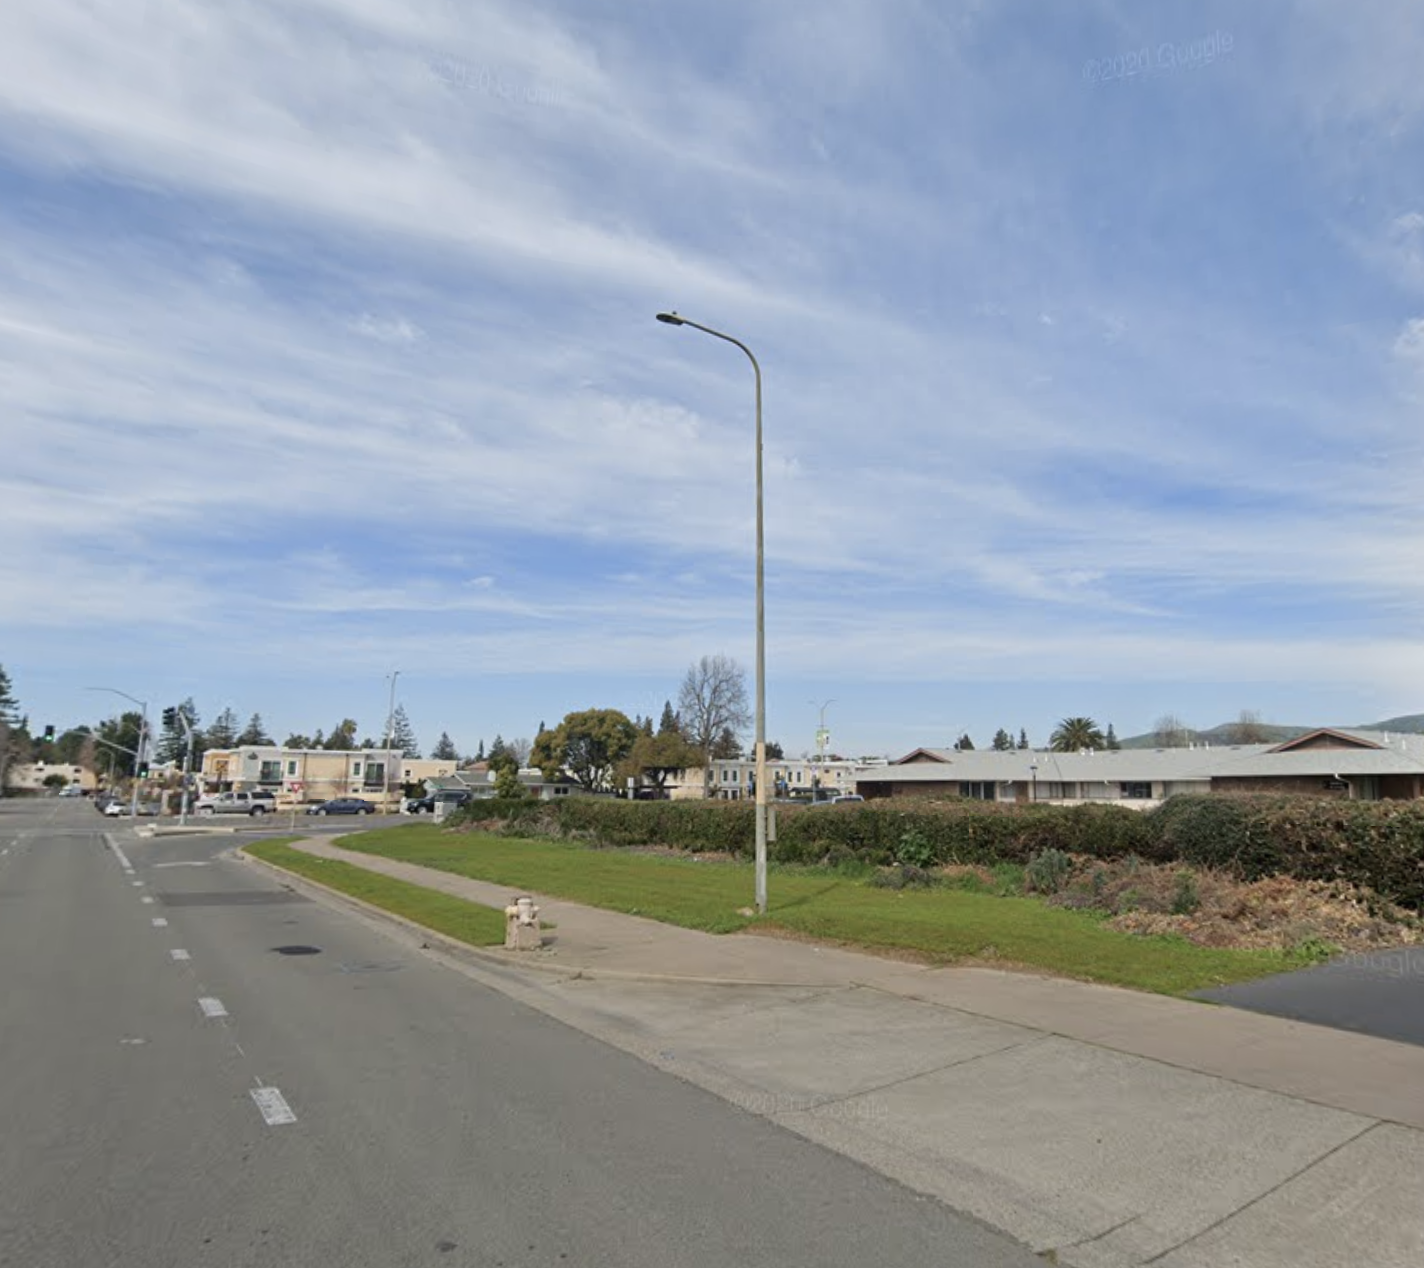pole: (635, 296, 785, 649)
